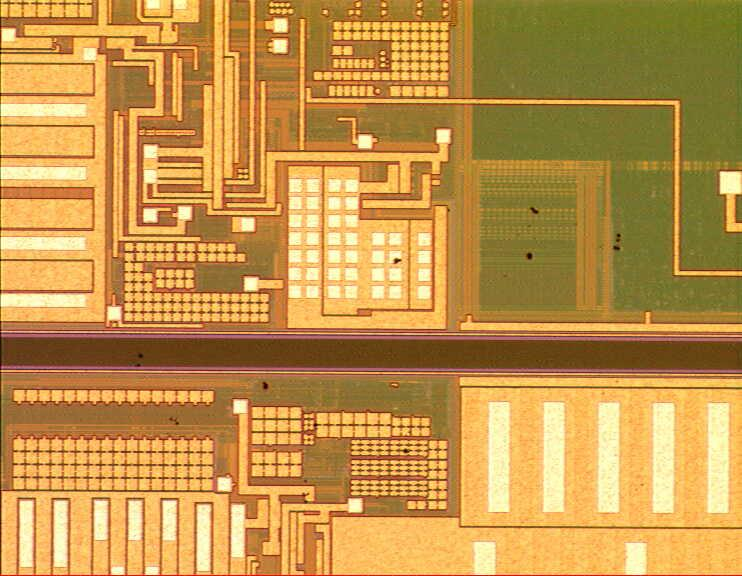PO CONTAMINATION: (132, 348, 415, 508)
